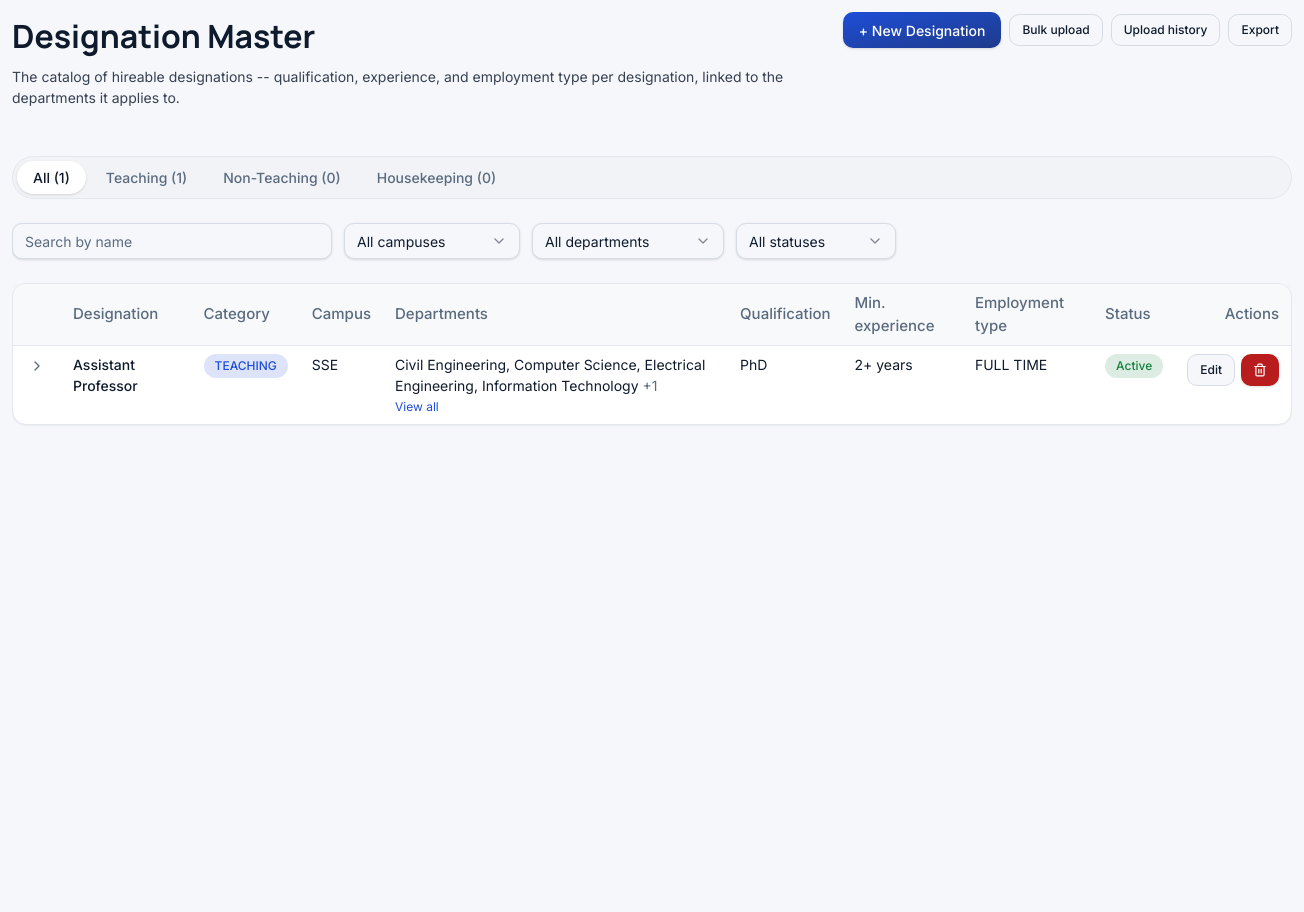
Scenario: DesignationsPage › expanded detail row › lists every linked department, including ones the inline cell collapsed into +N
Check: the text "Assistant Professor" is shown, box 61,346 -> 192,424
Check: the text "Mechanical Engineering" is not shown
Step 1. Click the button named "Expand details for Assistant Professor" → (37, 366), box 25,354 -> 49,378
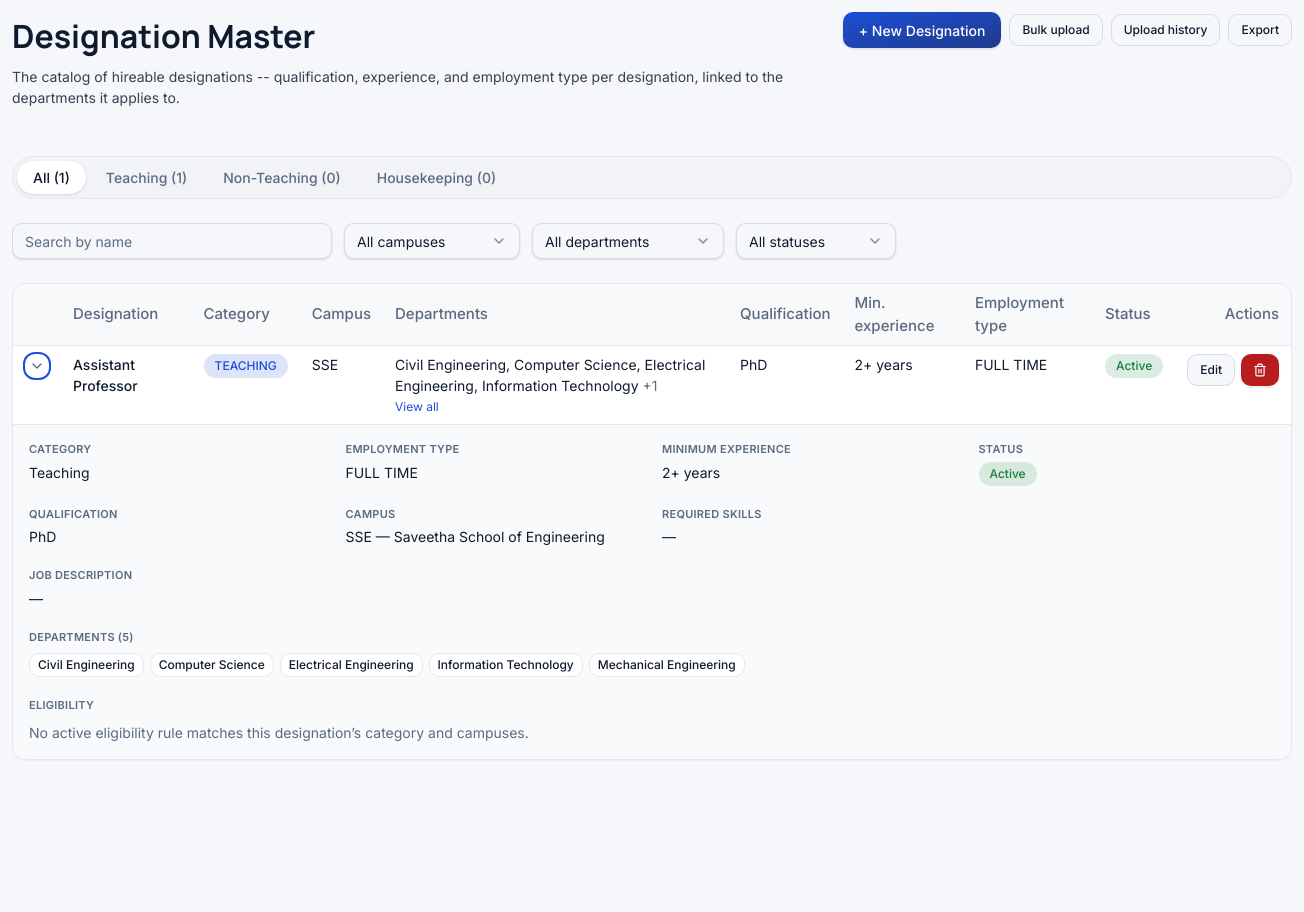
Check: the text "Departments (5)" is shown, box 29,630 -> 134,644
Check: the text "Mechanical Engineering" is shown, box 589,653 -> 745,677
